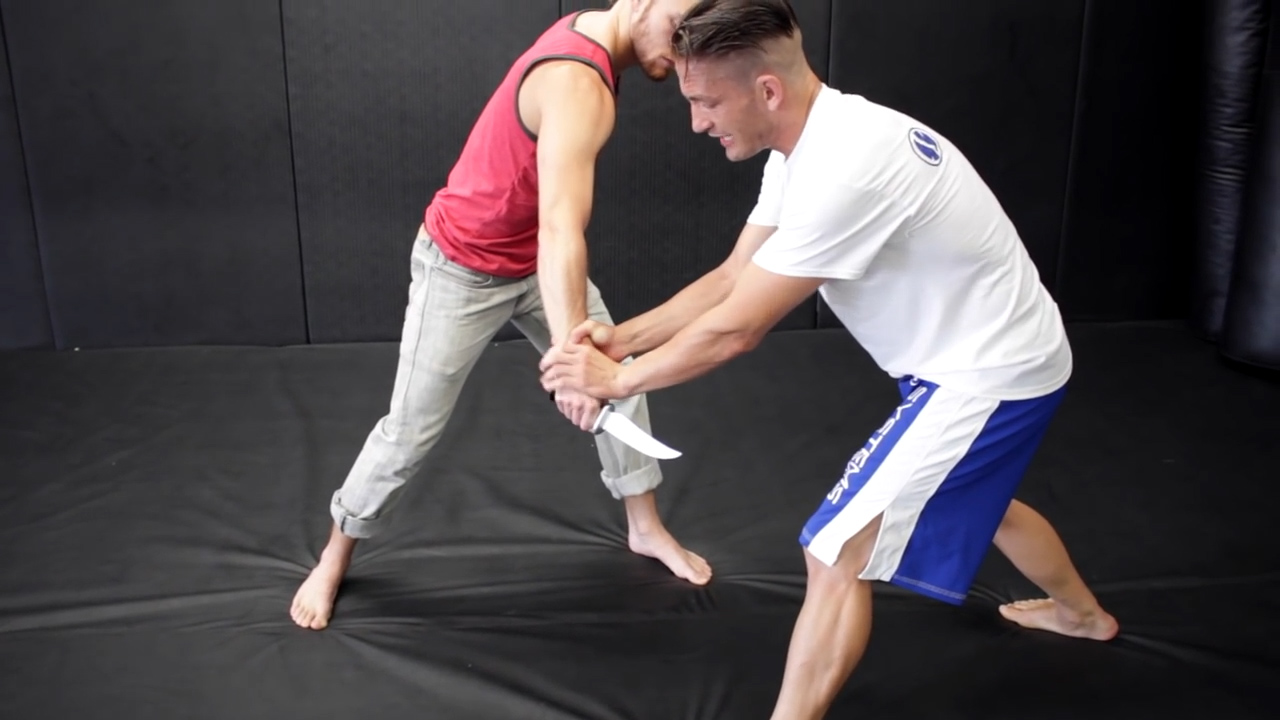knife: (549, 397, 691, 465)
